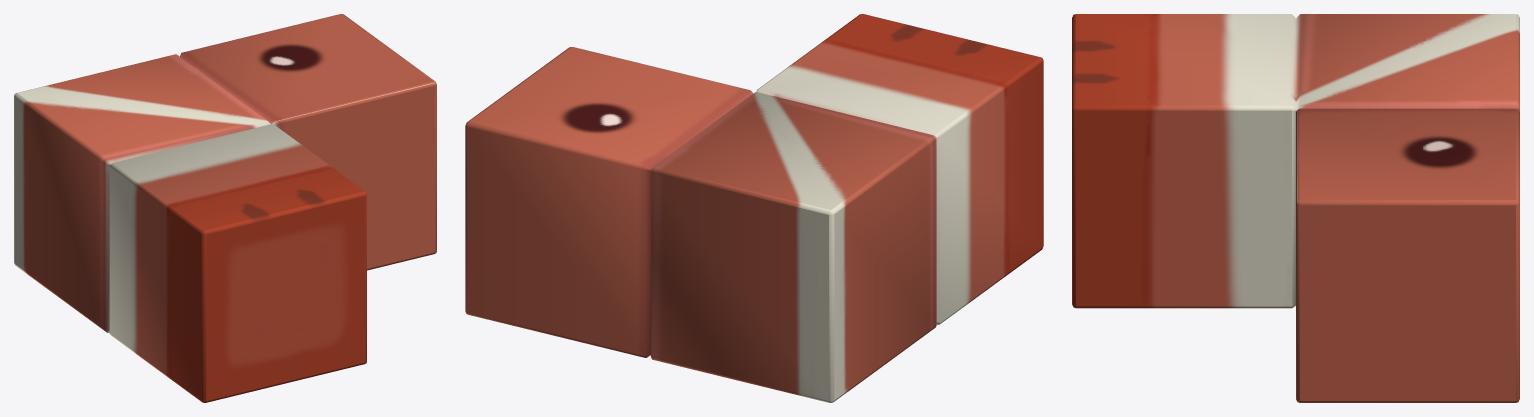
File: ebi.fbx
3 renders of one model, left to right at view 1: azimuth 30°, elevation 25°; view 2: azimuth 150°, elevation 25°; view 3: azimuth 270°, elevation 25°, orthographic. The views are drawn at different scales.
Parts seen in each view (by area): view 1: ebi; view 2: ebi; view 3: ebi.
Boxes of the visible parts, x1=… form: ebi: x1=14, y1=14, x2=436, y2=402; ebi: x1=465, y1=14, x2=1043, y2=402; ebi: x1=1072, y1=14, x2=1519, y2=402.
Bounding box in the file's own units: 2 × 1 × 2.
1 material, 1 textured.
